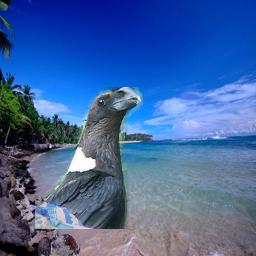Crow: (35, 87, 143, 229)
